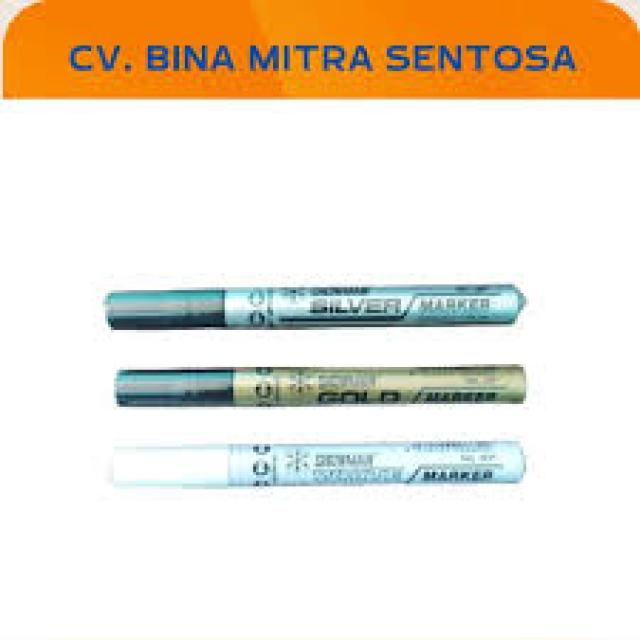marker: (110, 435, 529, 490), (114, 360, 527, 410), (110, 286, 522, 331)
